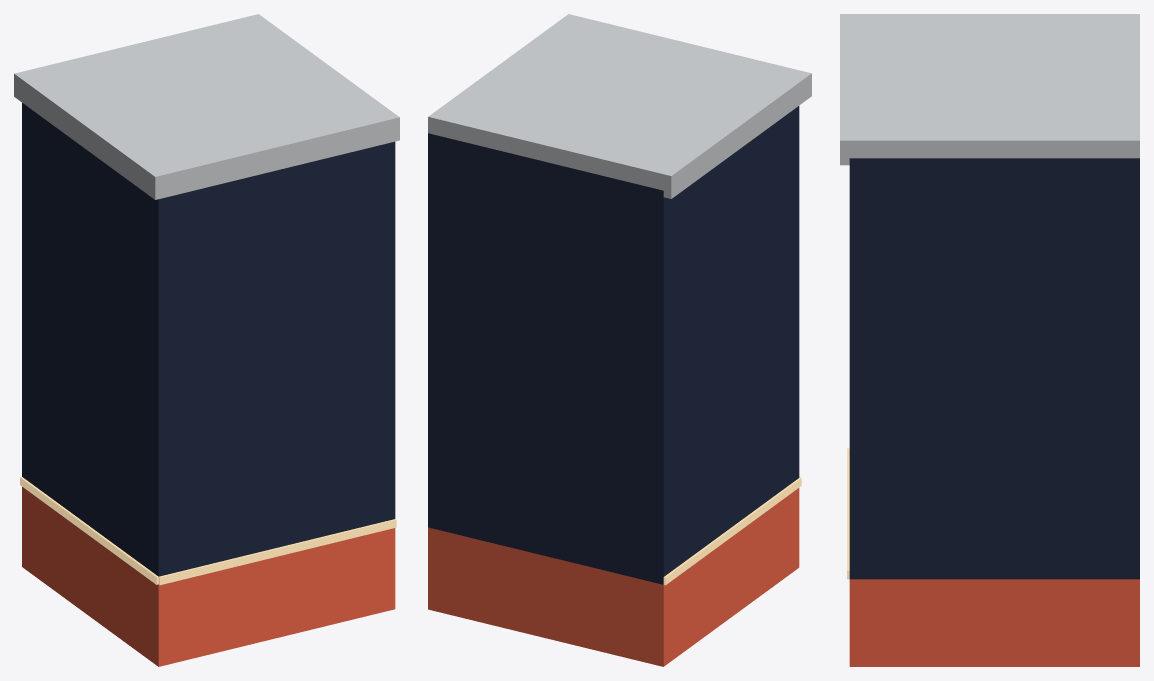
File: SC_Bld_Store_Fascia_Corner_L.gltf
The picture shows the model from 3 angles, left to right: view 1: azimuth 30°, elevation 25°; view 2: azimuth 150°, elevation 25°; view 3: azimuth 270°, elevation 25°; orthographic projection. The views are drawn at different scales.
Parts seen in each view (by area): view 1: SC_Bld_Store_Fascia_Corner_L; view 2: SC_Bld_Store_Fascia_Corner_L; view 3: SC_Bld_Store_Fascia_Corner_L.
Part boxes in pixels (left/top/right/bottom): SC_Bld_Store_Fascia_Corner_L: left=14, top=14, right=399, bottom=666; SC_Bld_Store_Fascia_Corner_L: left=428, top=14, right=811, bottom=666; SC_Bld_Store_Fascia_Corner_L: left=840, top=14, right=1139, bottom=666.
Bounding box in the file's own units: 0.465 × 0.912 × 0.465.
2 materials, 2 textured.
